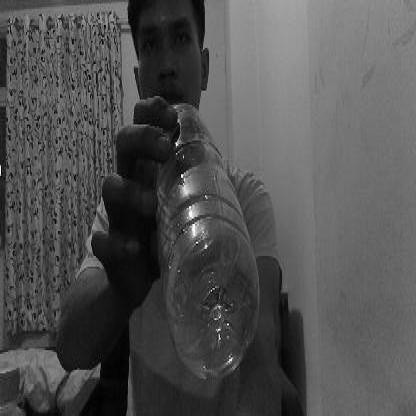plastic_bottles: (153, 96, 257, 380)
